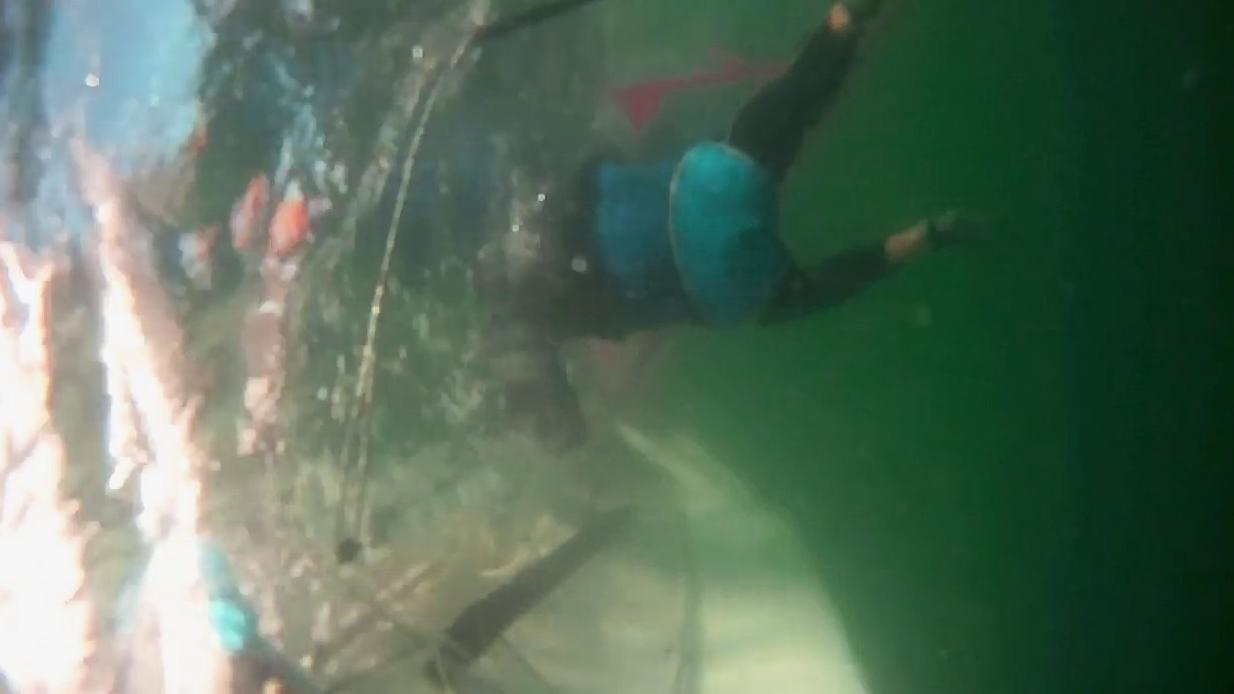person: (518, 0, 965, 442)
underwater: (0, 0, 1234, 694)
